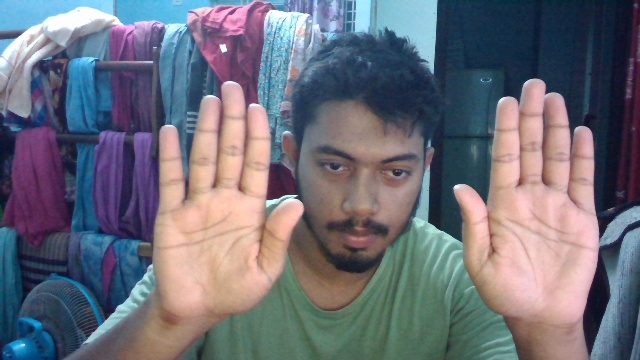thanks: (140, 74, 612, 339)
